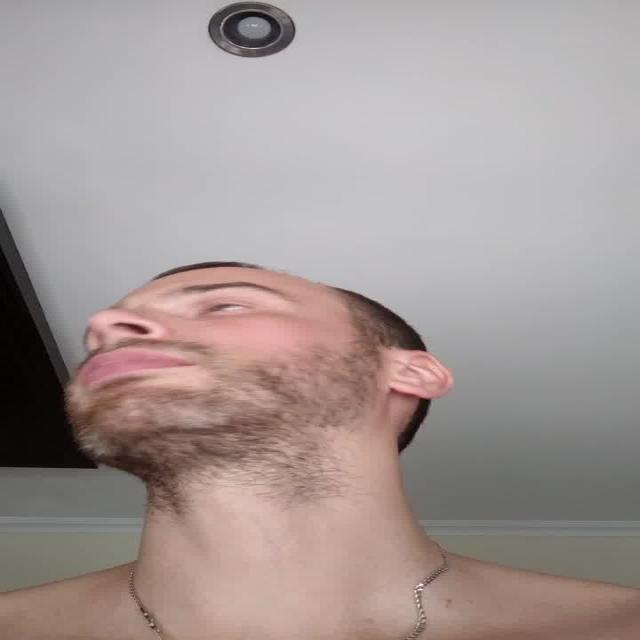earlobe: (379, 383, 437, 398)
eye: (192, 300, 254, 318)
nose: (80, 334, 160, 355)
wholeear: (380, 350, 454, 398)
